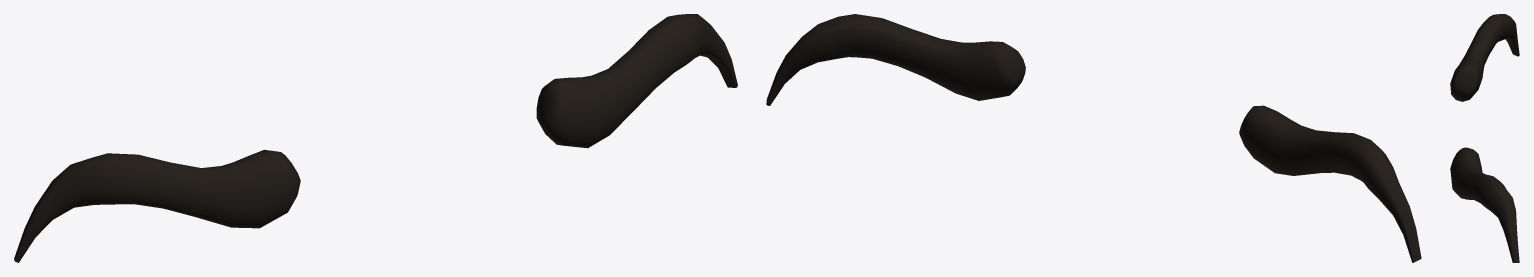
Rendered from Eyebrows_27_01.fbx.
3 renders of one model, left to right at view 1: azimuth 30°, elevation 25°; view 2: azimuth 150°, elevation 25°; view 3: azimuth 270°, elevation 25°, orthographic. The views are drawn at different scales.
Parts seen in each view (by area): view 1: Eyebrows_27_01; view 2: Eyebrows_27_01; view 3: Eyebrows_27_01.
Part boxes in pixels (left/top/right/bottom): Eyebrows_27_01: left=14, top=14, right=737, bottom=262; Eyebrows_27_01: left=766, top=14, right=1421, bottom=262; Eyebrows_27_01: left=1450, top=14, right=1519, bottom=262.
Size of the model in its own units: 18.72 by 2.55 by 2.61.
